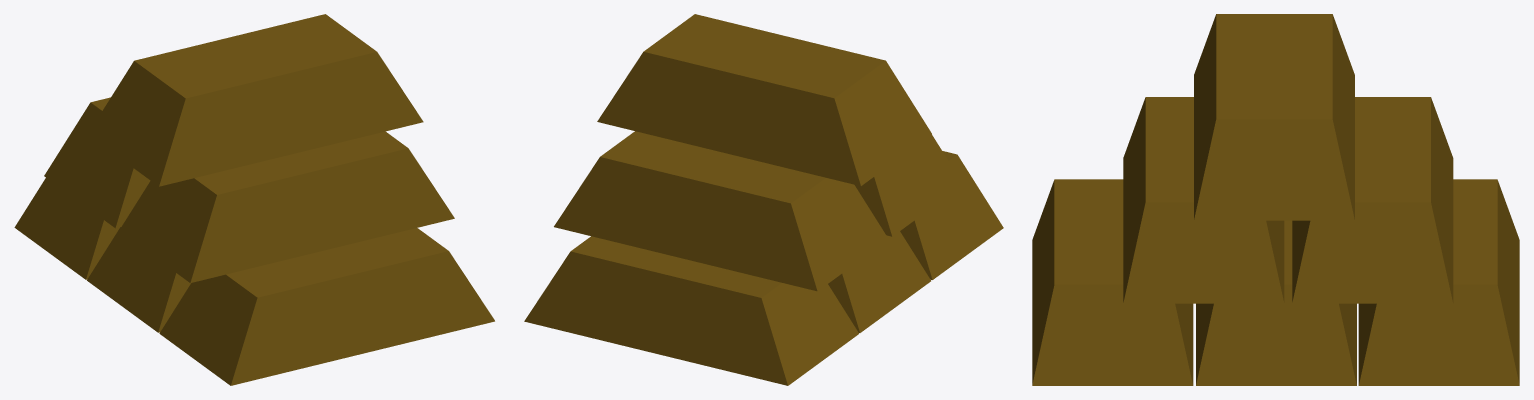
File: GoldResource.fbx
3 views of the same model, side by side, from view 1: azimuth 30°, elevation 25°; view 2: azimuth 150°, elevation 25°; view 3: azimuth 270°, elevation 25° (orthographic). The views are drawn at different scales.
Visible parts, largest first — view 1: GoldBars; view 2: GoldBars; view 3: GoldBars.
Part boxes in pixels (left/top/right/bottom): GoldBars: left=14, top=14, right=494, bottom=385; GoldBars: left=524, top=14, right=1003, bottom=385; GoldBars: left=1032, top=14, right=1519, bottom=385.
Bounding box in the file's own units: 0.6239 × 0.4926 × 0.8829.
